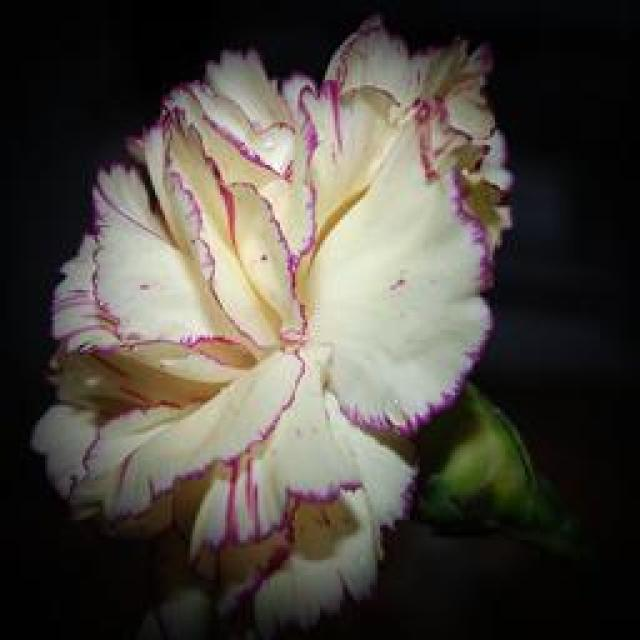carnation: (14, 15, 536, 595)
